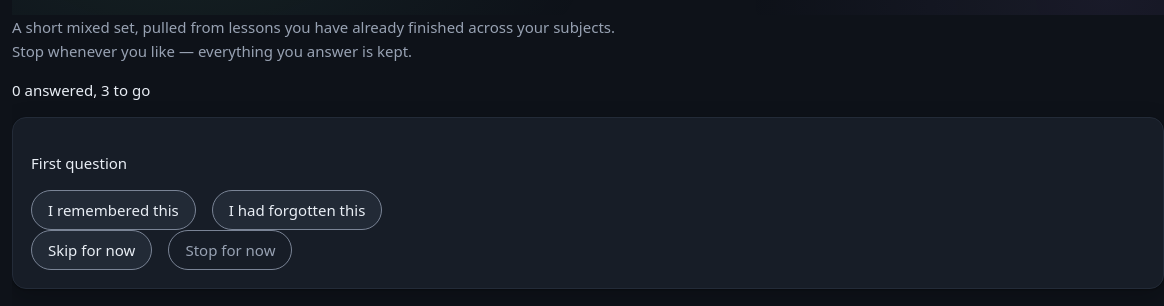
the practice run › keeps every answered question when the learner stops part way
Click the button with test id "practice-got-it" at (113, 210), box [31,190,196,230]
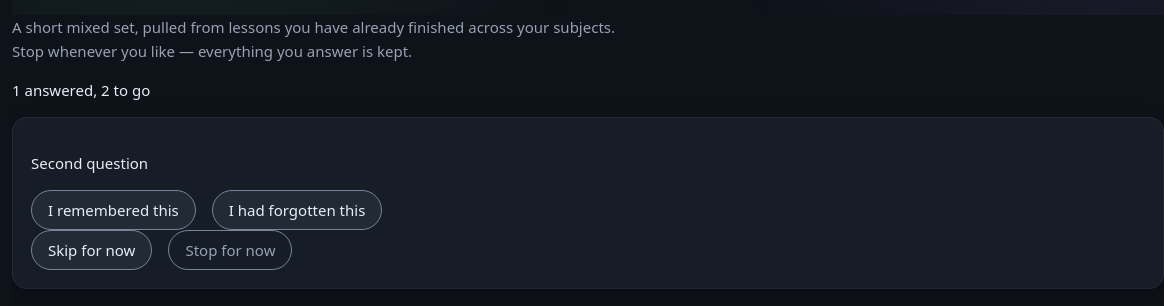
expect the text with test id "practice-progress" shows "1 answered": met, box [12,80,150,100]
Click the button with test id "practice-stop" at (230, 250), box [168,230,292,270]
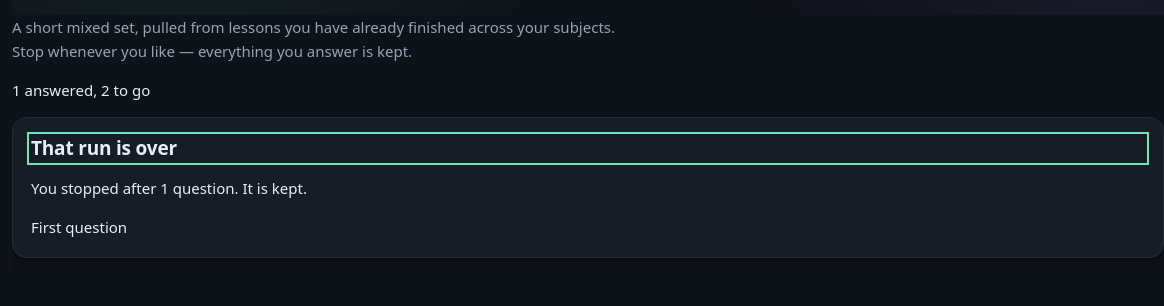
expect the element with test id "practice-summary" shows "kept": met, box [31,178,307,198]
